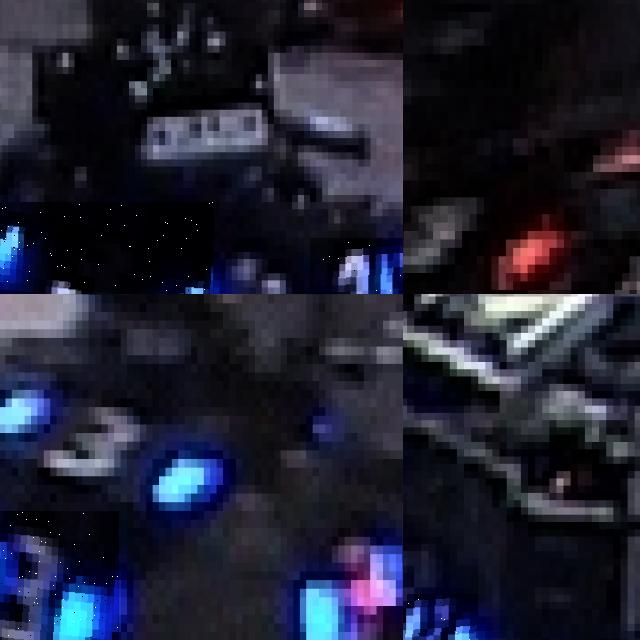B2: (403, 594, 478, 640)
B3: (0, 202, 213, 294), (0, 510, 120, 640), (310, 237, 403, 294)
